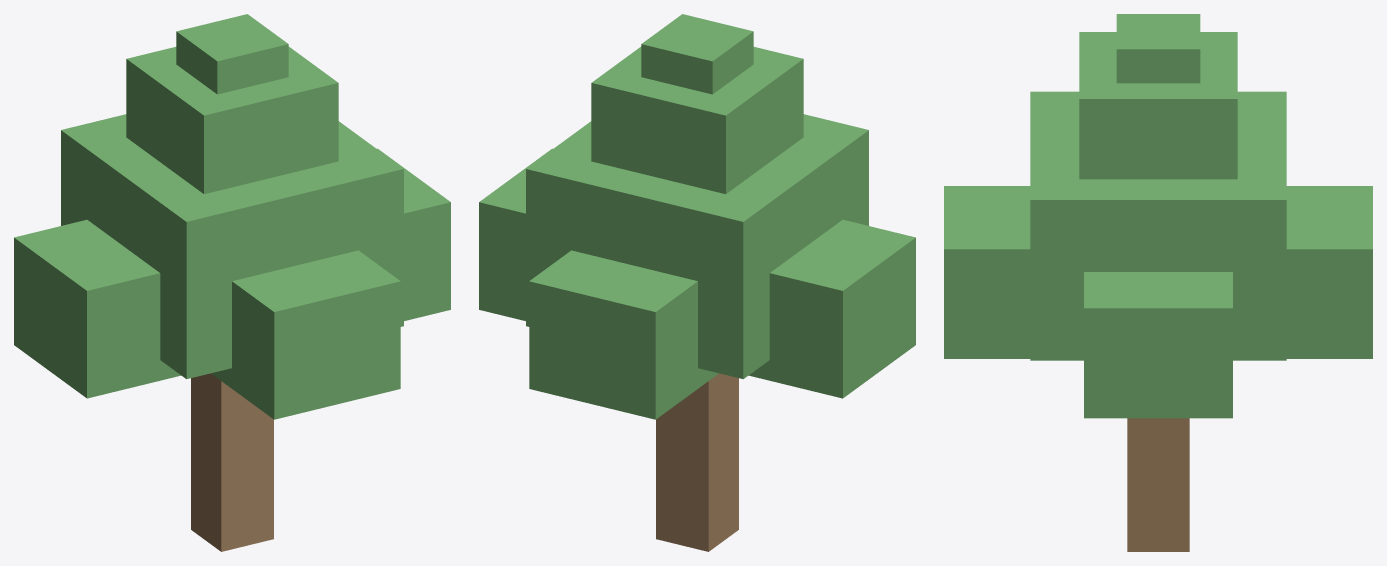
File: Prop_DS_Tree_01.glb
3 renders of one model, left to right at view 1: azimuth 30°, elevation 25°; view 2: azimuth 150°, elevation 25°; view 3: azimuth 270°, elevation 25°, orthographic. The views are drawn at different scales.
Visible parts, largest first — view 1: Cube.001, Cube.005, Cube.006, Cube.003, Cube, Cube.007, Cube.002; view 2: Cube.001, Cube.004, Cube.006, Cube.003, Cube, Cube.007, Cube.002; view 3: Cube.001, Cube.002, Cube.006, Cube.004, Cube.005, Cube, Cube.007.
Boxes of the visible parts, x1,y1,x2,y2 form: Cube.001: [61, 114, 403, 379]; Cube.005: [211, 250, 400, 419]; Cube.006: [126, 46, 338, 194]; Cube.003: [14, 219, 180, 398]; Cube: [191, 373, 273, 551]; Cube.007: [176, 14, 288, 94]; Cube.002: [377, 148, 450, 320]; Cube.001: [526, 114, 868, 379]; Cube.004: [529, 250, 718, 419]; Cube.006: [591, 46, 803, 194]; Cube.003: [749, 219, 915, 398]; Cube: [656, 373, 738, 551]; Cube.007: [641, 14, 753, 94]; Cube.002: [479, 148, 552, 320]; Cube.001: [1030, 91, 1286, 360]; Cube.002: [1084, 272, 1232, 418]; Cube.006: [1079, 32, 1237, 179]; Cube.004: [1286, 186, 1372, 358]; Cube.005: [944, 186, 1030, 358]; Cube: [1127, 418, 1189, 551]; Cube.007: [1116, 14, 1200, 83].
Bounding box in the file's own units: 2.07 × 2.7 × 2.07.
